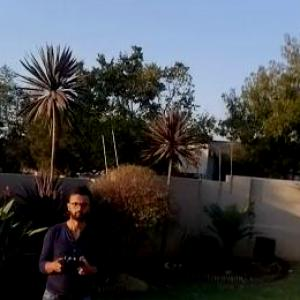follow: (33, 182, 105, 299)
